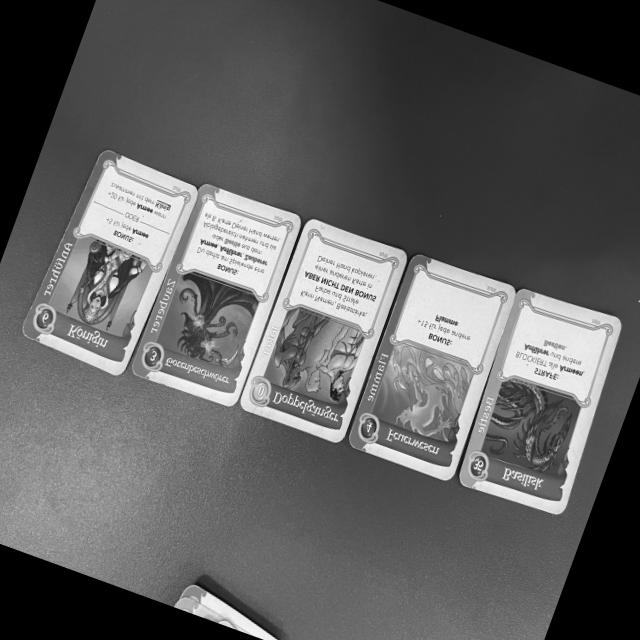Basilisk: (457, 287, 628, 521)
Doppelganger: (242, 218, 411, 451)
Fire Elemental: (349, 251, 517, 485)
Necromancer: (128, 173, 304, 409)
Queen: (15, 142, 197, 388)
